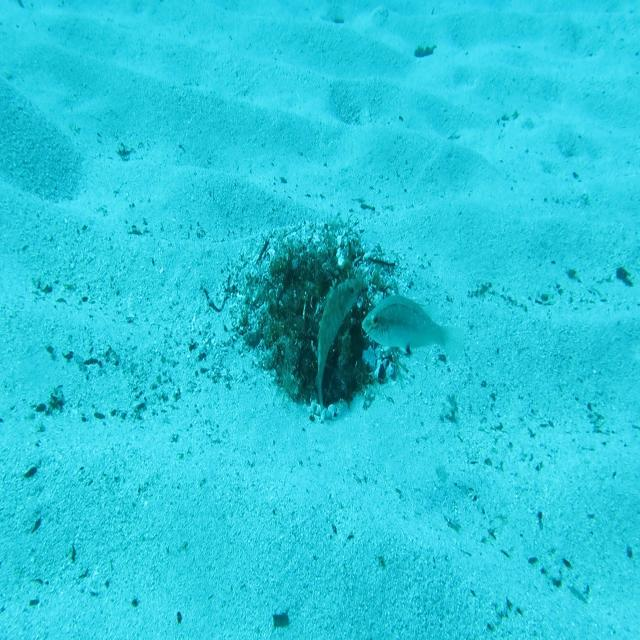LF: (311, 272, 363, 418)
core_nest: (287, 257, 335, 293)
female: (360, 292, 466, 368)
nest: (218, 204, 416, 436)
vegetation: (269, 611, 293, 632), (413, 41, 437, 60), (616, 264, 632, 290)
